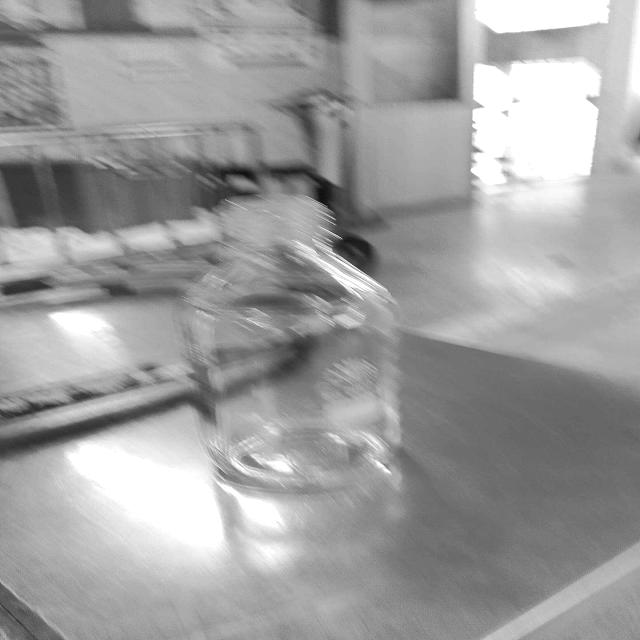General: (173, 187, 407, 497)
Sharps: (2, 235, 401, 491)
